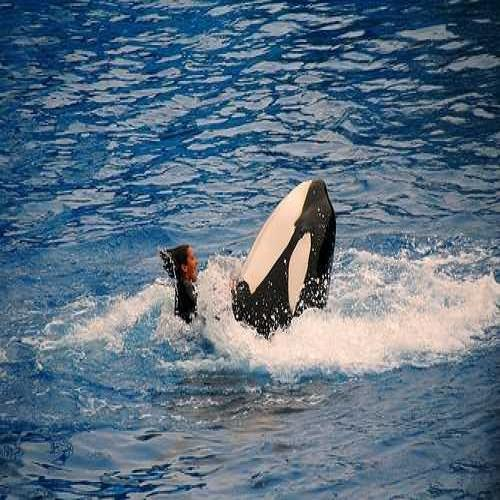killer_whale-endangered: (218, 135, 354, 376)
